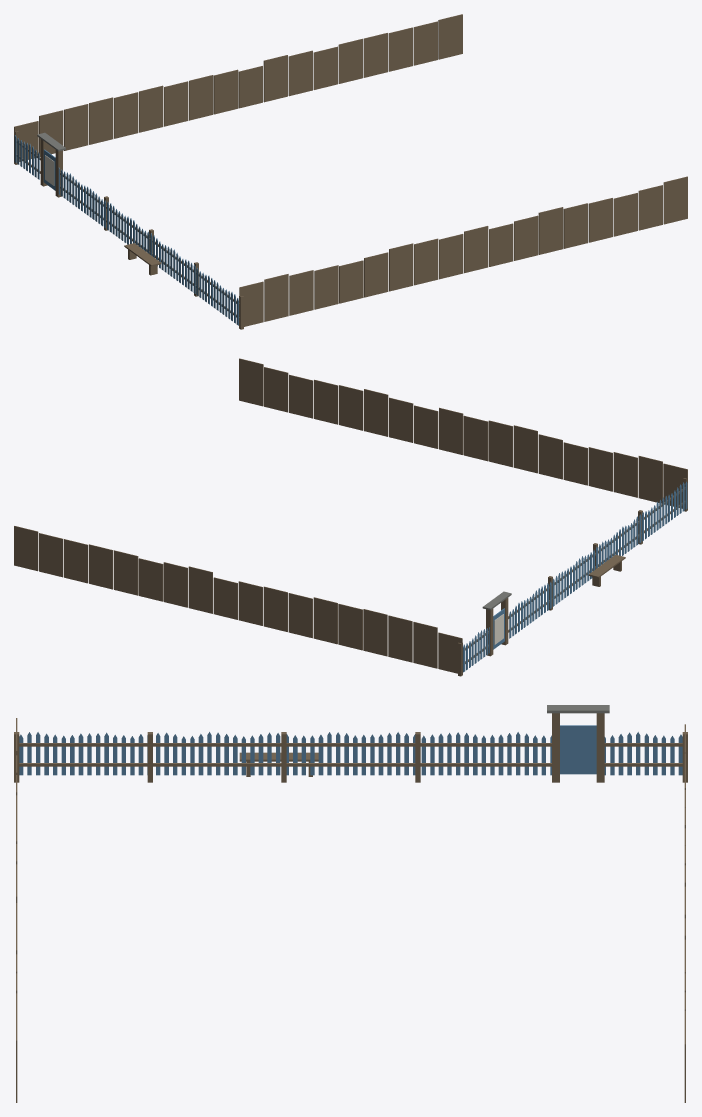
Rendered from izba-fence-1.glb.
The picture shows the model from 3 angles, top to bottom: view 1: azimuth 30°, elevation 25°; view 2: azimuth 150°, elevation 25°; view 3: azimuth 270°, elevation 25°; orthographic projection. The views are drawn at different scales.
Parts seen in each view (by area): view 1: 01_#7a6a56, 00_paint0; view 2: 01_#7a6a56, 00_paint0; view 3: 00_paint0, 01_#7a6a56.
Part boxes in pixels (box(x1,y1,x2,y2)): 01_#7a6a56: box(14, 14, 687, 329); 00_paint0: box(14, 135, 238, 325); 01_#7a6a56: box(14, 358, 687, 676); 00_paint0: box(463, 481, 687, 672); 00_paint0: box(19, 725, 682, 775); 01_#7a6a56: box(14, 713, 687, 1102).
Bounding box in the file's own units: 17.74 × 1.81 × 15.12.
